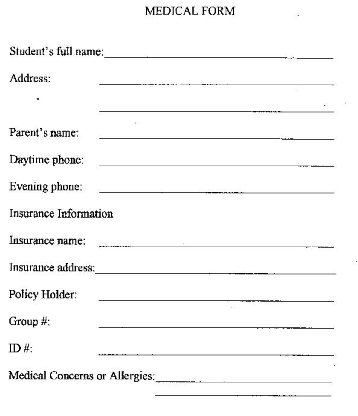textline: (97, 148, 337, 169), (95, 311, 336, 331), (98, 229, 336, 249), (95, 258, 339, 277), (104, 44, 335, 63), (96, 285, 337, 303), (97, 177, 337, 195), (98, 71, 337, 89), (98, 123, 336, 141), (97, 340, 336, 357), (98, 98, 337, 113), (153, 366, 335, 385), (153, 385, 334, 398)
